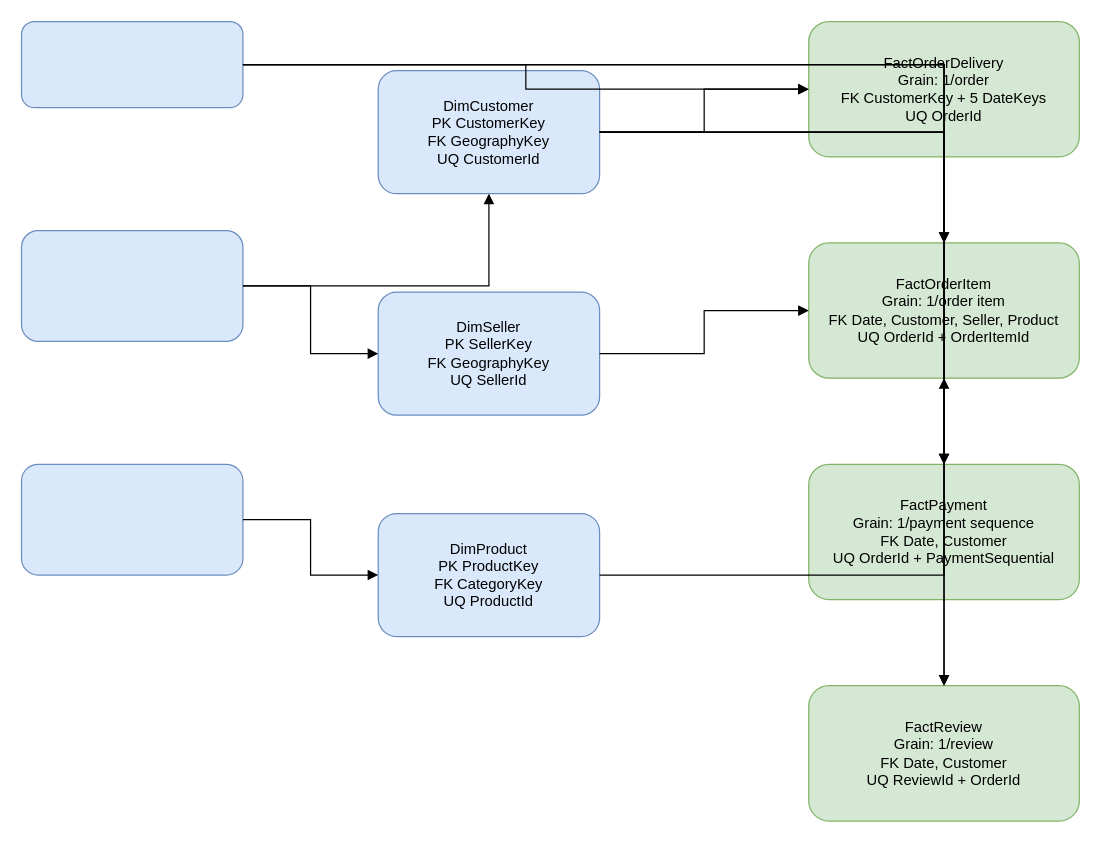
The diagram is 1101 pixels wide and 843 high, and some of its shapes have lost their labels. The shapes that lost their labels are listed below. From the top down, each one's box as (x1, y1, x2, y2) in pixels, then its label:
(20, 20, 243, 108): DimDate PK DateKey
(20, 229, 243, 341): DimGeography PK GeographyKey UQ ZipCodePrefix
(20, 463, 243, 575): DimCategory PK CategoryKey UQ CategoryName
